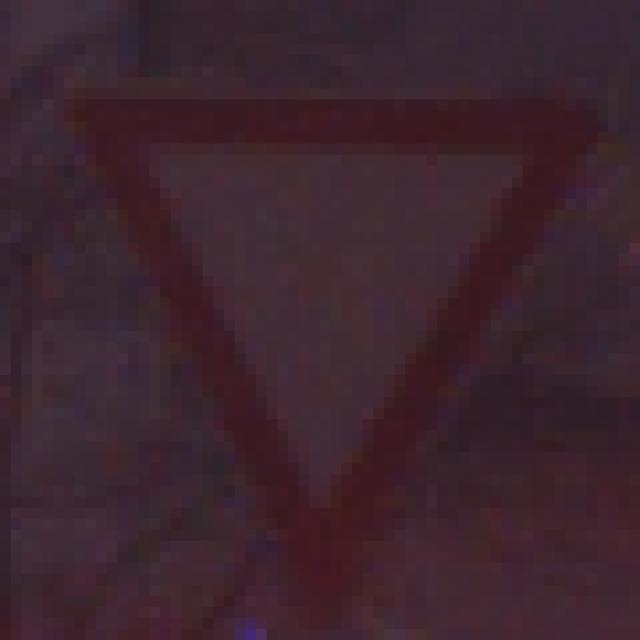Give Way: (54, 67, 588, 586)
